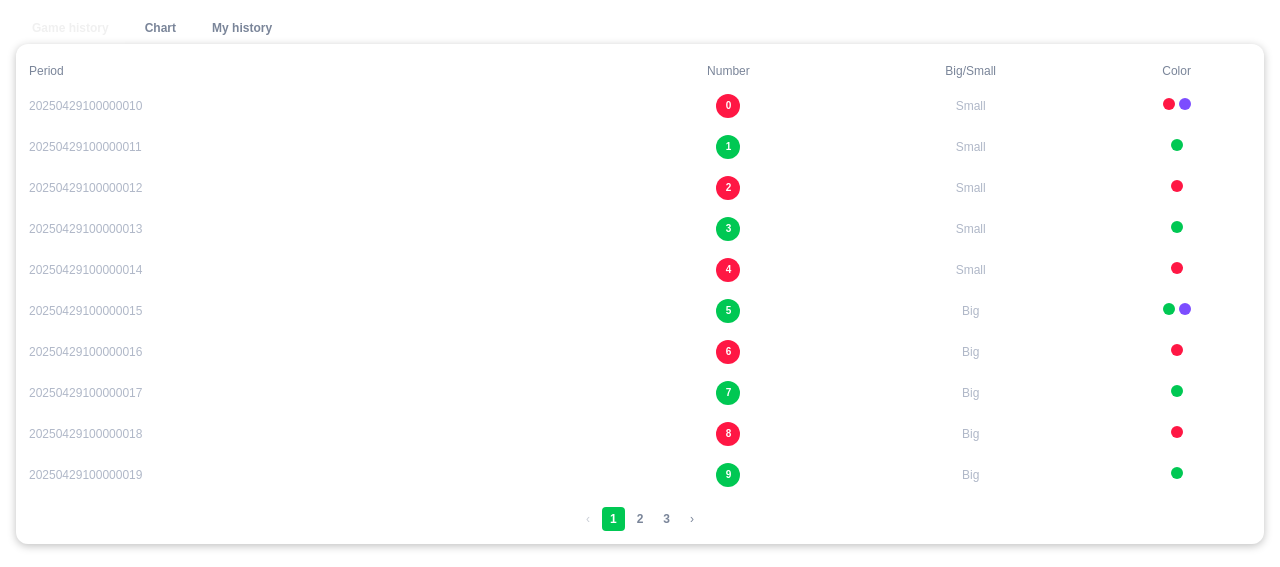
it: HistoryTable › switches to Chart tab on click
This screenshot has width=1280, height=567.
What coordinates should you click on to do the following:
click the tab "Chart"
I would click on:
 (160, 28)
Its box is [129,12,192,44].
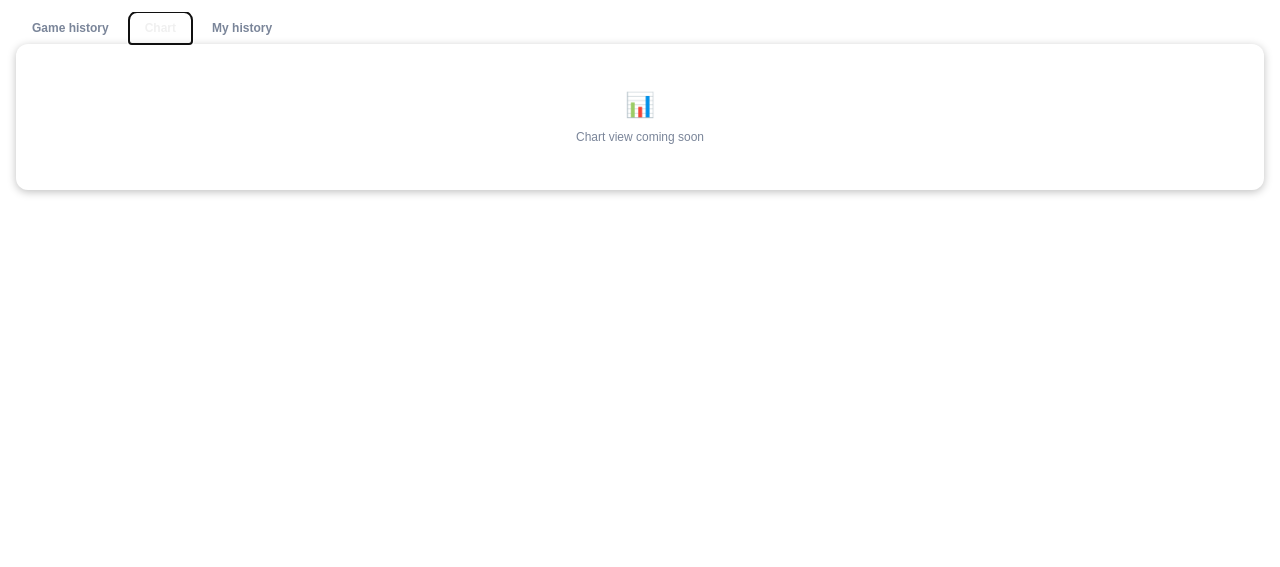
Expected: the text "Chart view coming soon" is shown, [576,129,704,145]
